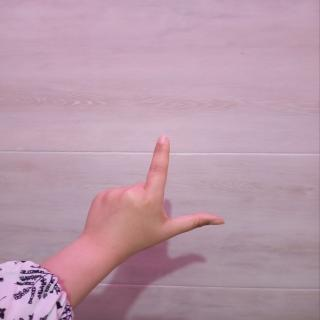LAAM: (76, 130, 233, 256)
